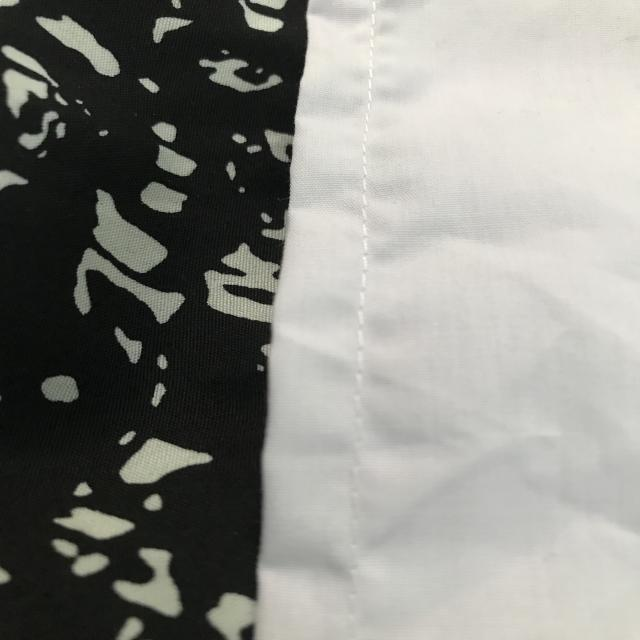good: (341, 229, 392, 352)
